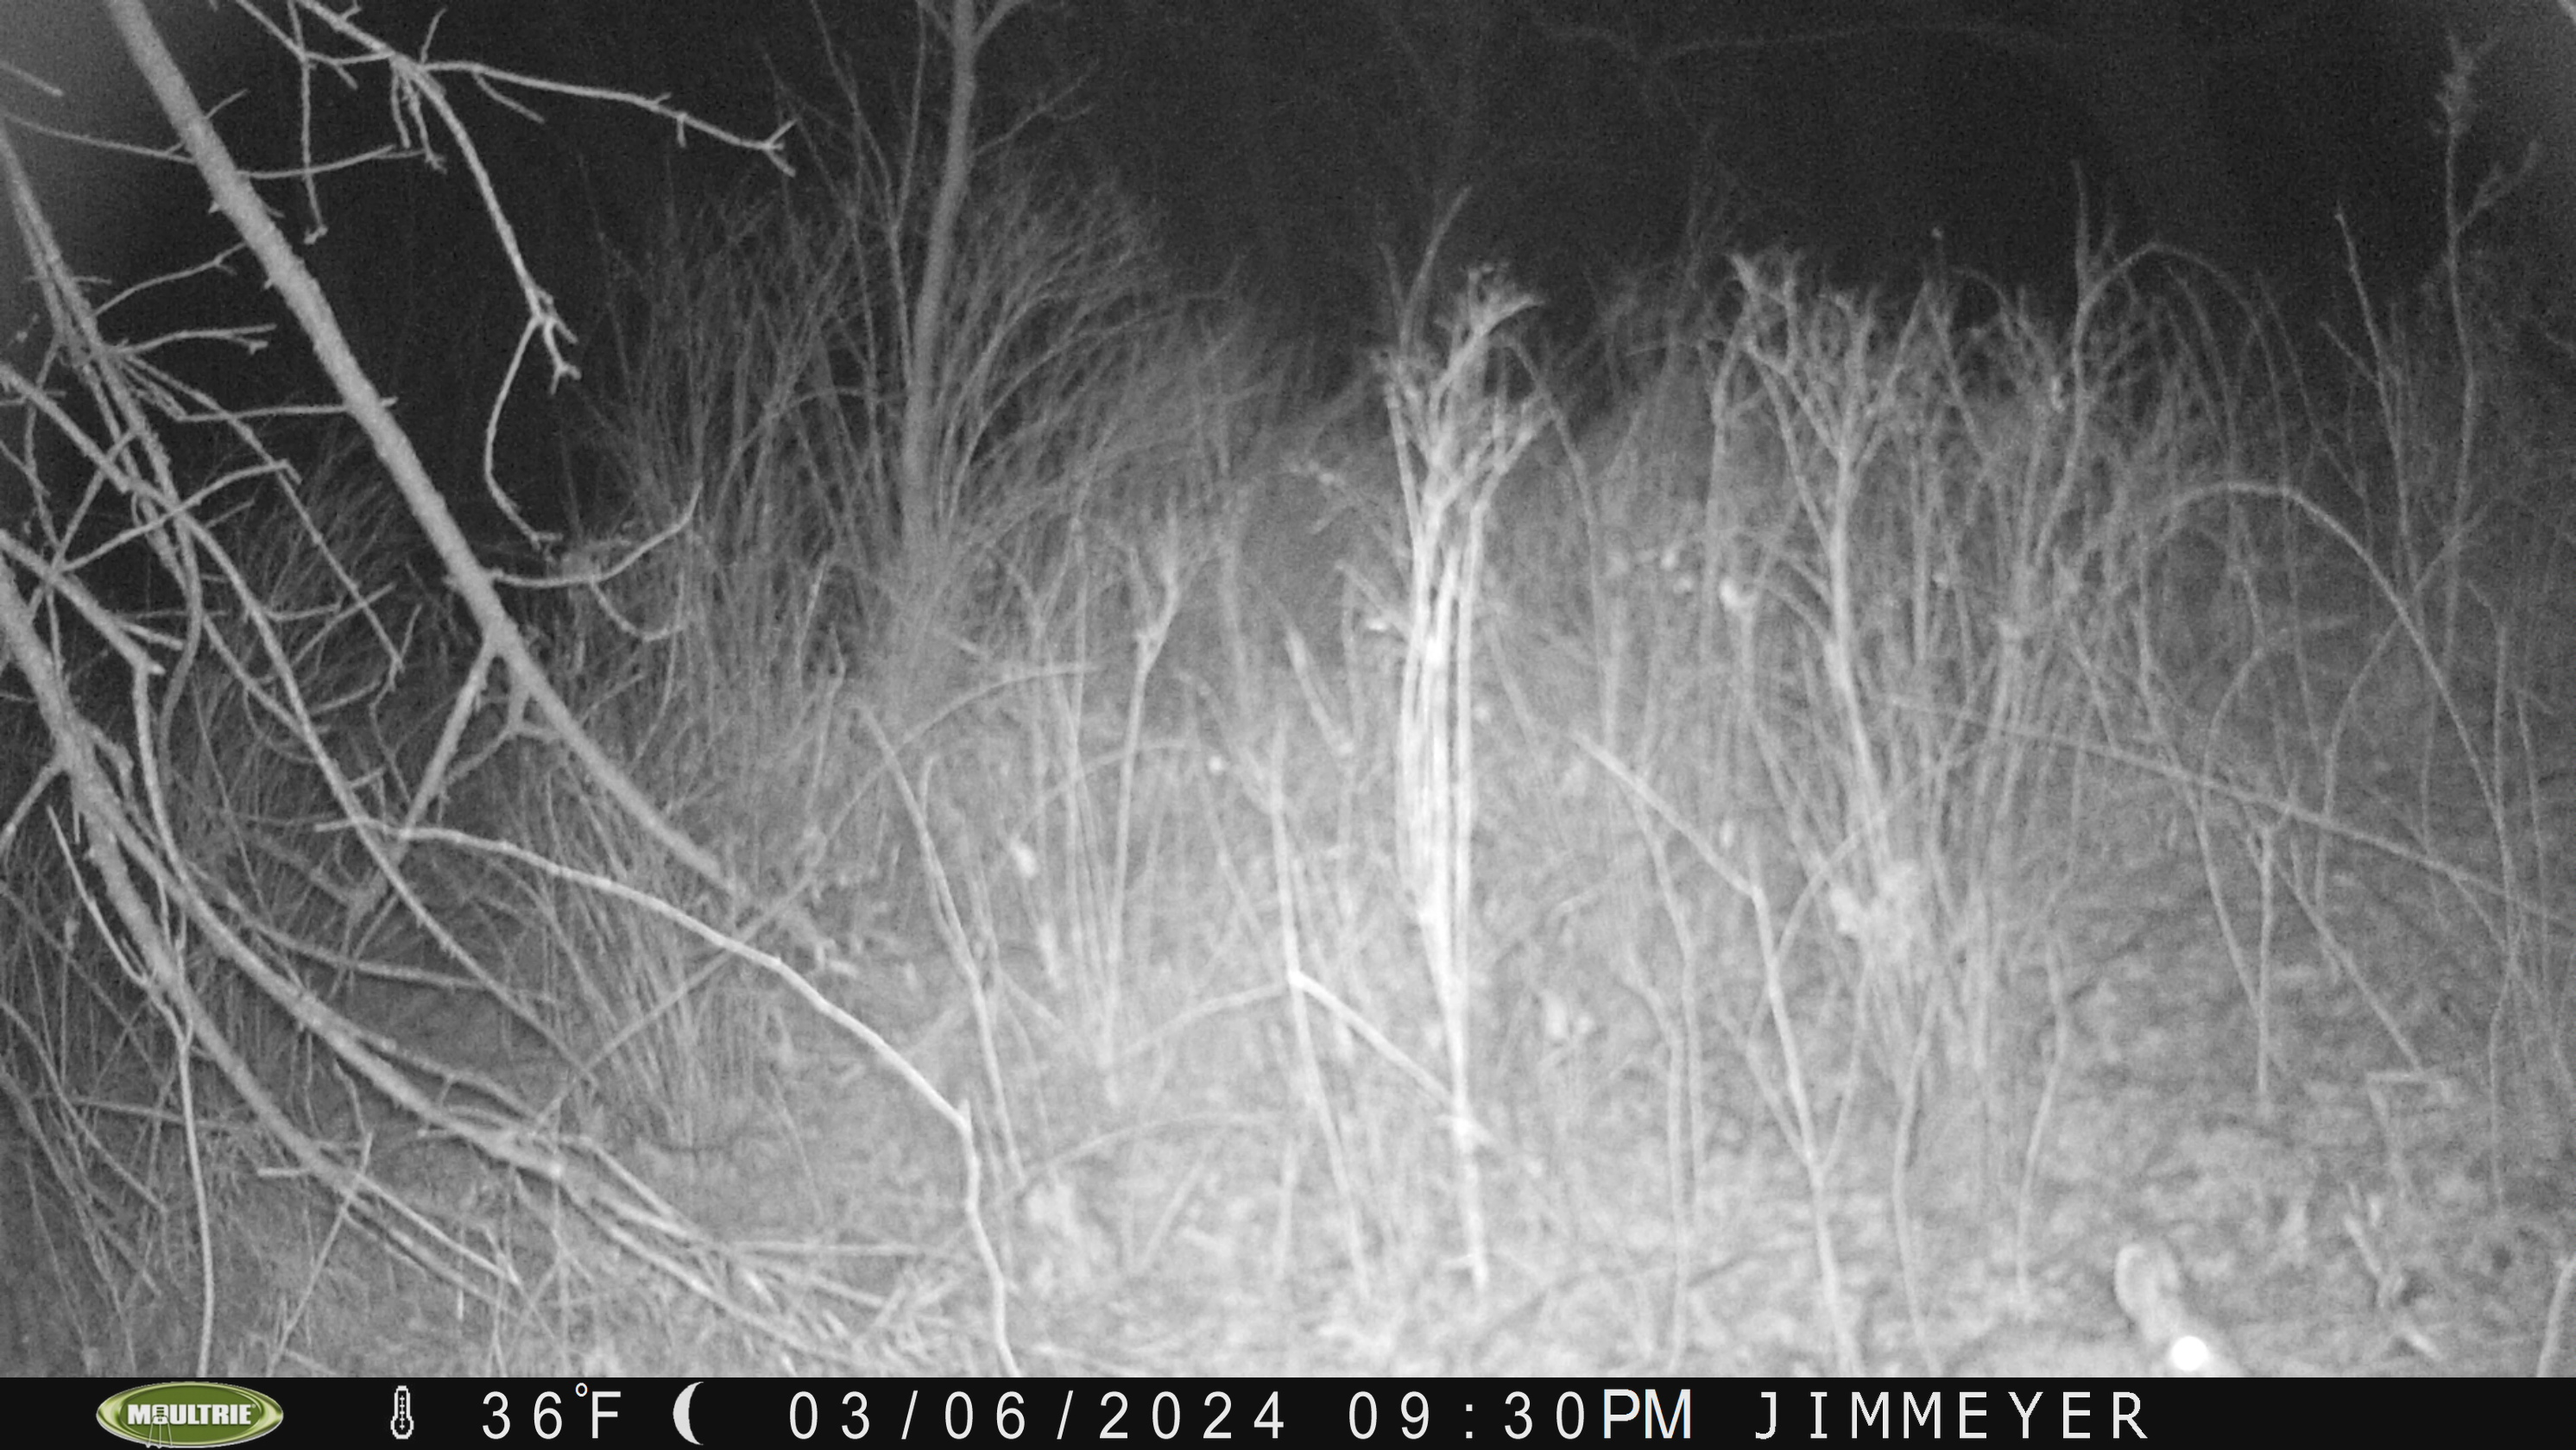Rabbit: (1948, 1231, 2247, 1376)
